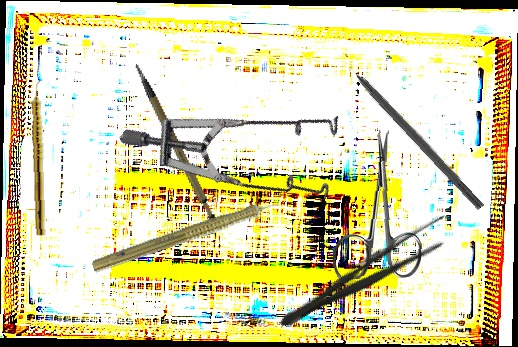Dressing Forceps: (272, 209, 460, 340)
Handpiece: (89, 188, 299, 281), (30, 78, 49, 237)
Hook Surgical: (335, 50, 487, 212)
Iris Scissors: (332, 128, 426, 282)
Scalpel Handle: (134, 54, 220, 231)
Speculum: (117, 17, 371, 265)
